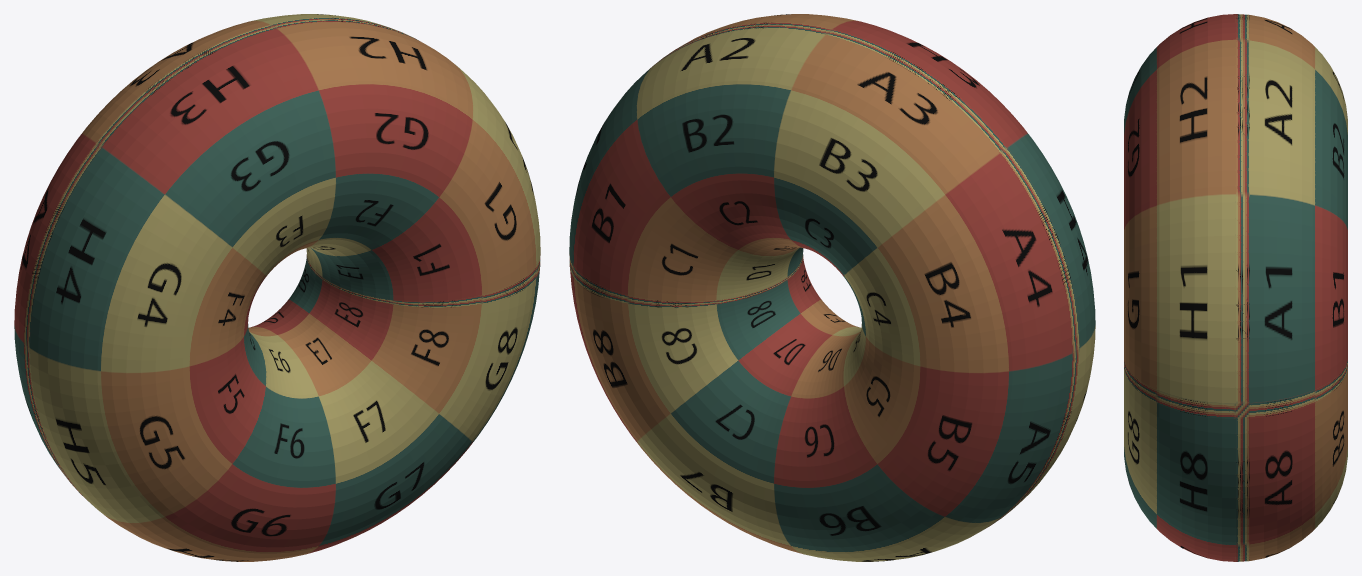
Rendered from texture_torus_R2_r9.glb.
3 renders of one model, left to right at view 1: azimuth 30°, elevation 25°; view 2: azimuth 150°, elevation 25°; view 3: azimuth 270°, elevation 25°, orthographic. The views are drawn at different scales.
Visible parts, largest first — view 1: world; view 2: world; view 3: world.
Part boxes in pixels (x1,y1,x2,y2): world: (14, 14, 540, 561); world: (569, 14, 1095, 561); world: (1124, 14, 1347, 561).
Size of the model in its own units: 24.44 by 24.44 by 9.98.
1 material, 1 textured.
